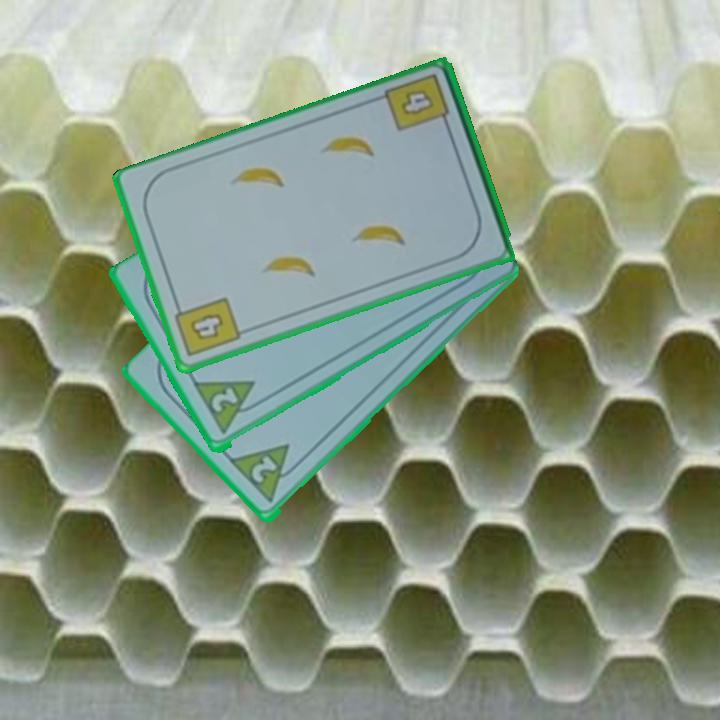2p: (227, 440, 306, 507), (190, 377, 267, 438)
4b: (171, 294, 244, 360), (382, 70, 453, 135)
